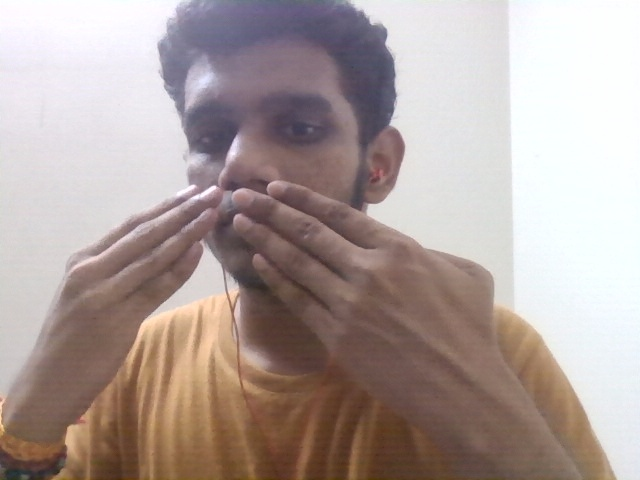thanks: (43, 171, 522, 402)
